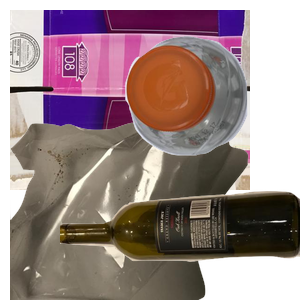cardboard: (10, 10, 250, 190)
glass: (60, 189, 300, 300)
plastic: (123, 33, 300, 181)
trash: (10, 120, 250, 300)
